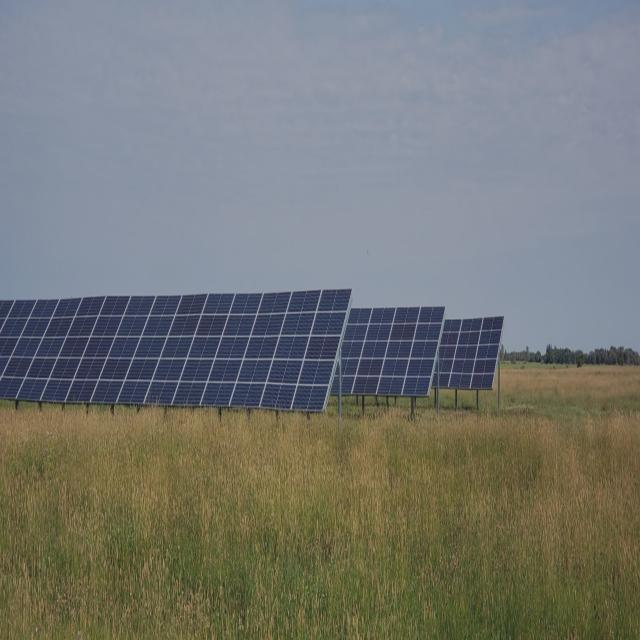clean-solar-panel: (0, 288, 351, 413)
